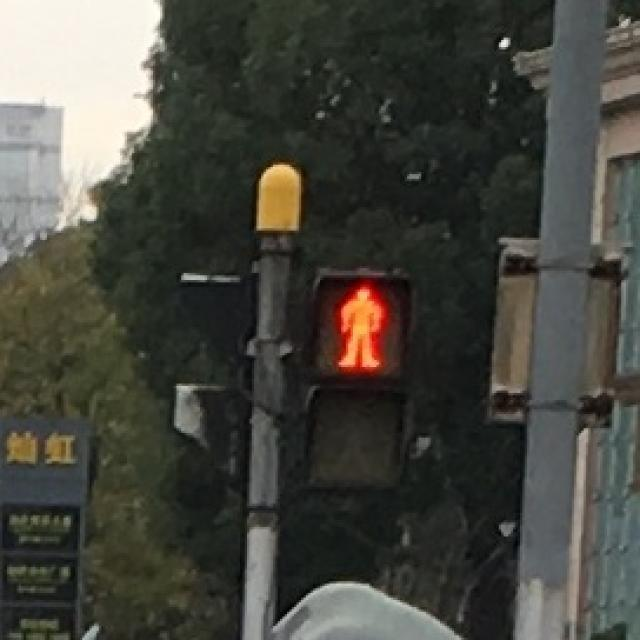red-crossing: (320, 268, 398, 379)
